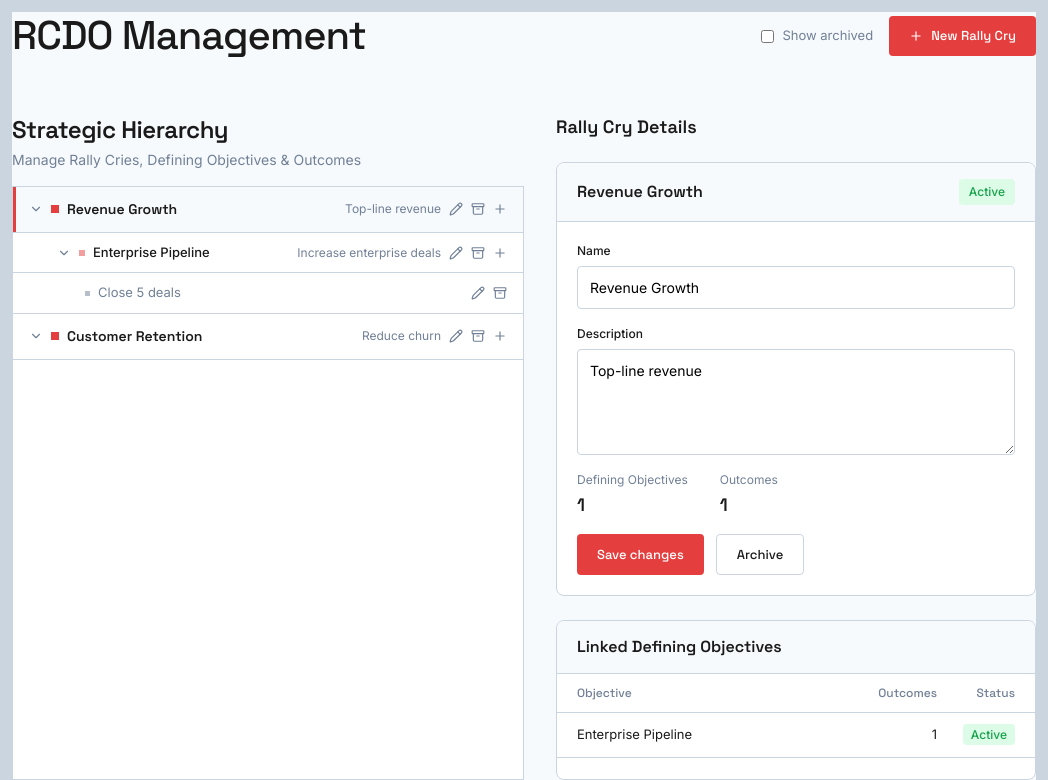
Test: StrategyManagementPage › only one node can be in edit mode at a time
Step 1. Click the button with test id "edit-node-btn" next to "Top-line revenue" → (456, 209), box [449,202,463,216]
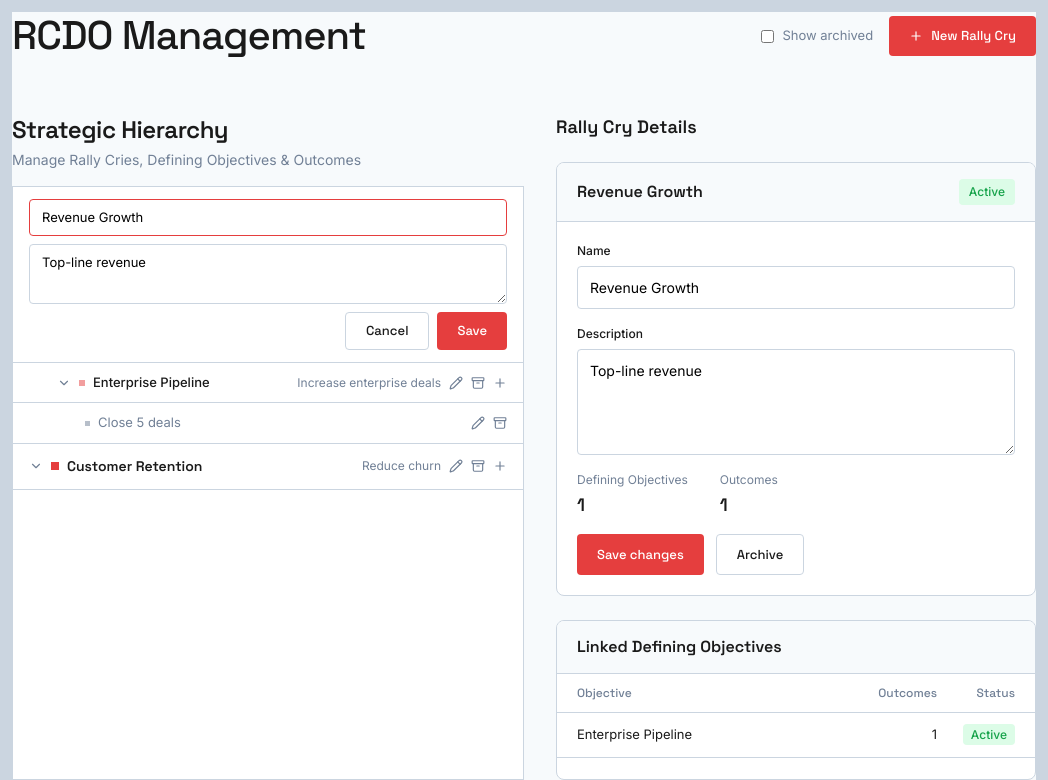
expect the field with test id "inline-edit-name" is shown: met, box [29,199,507,236]
// While RC is in inline edit, the next edit-node-btn in document order is the DO row
Step 2. Click the button with test id "edit-node-btn" next to "Increase enterprise deals" → (456, 382), box [449,376,463,390]
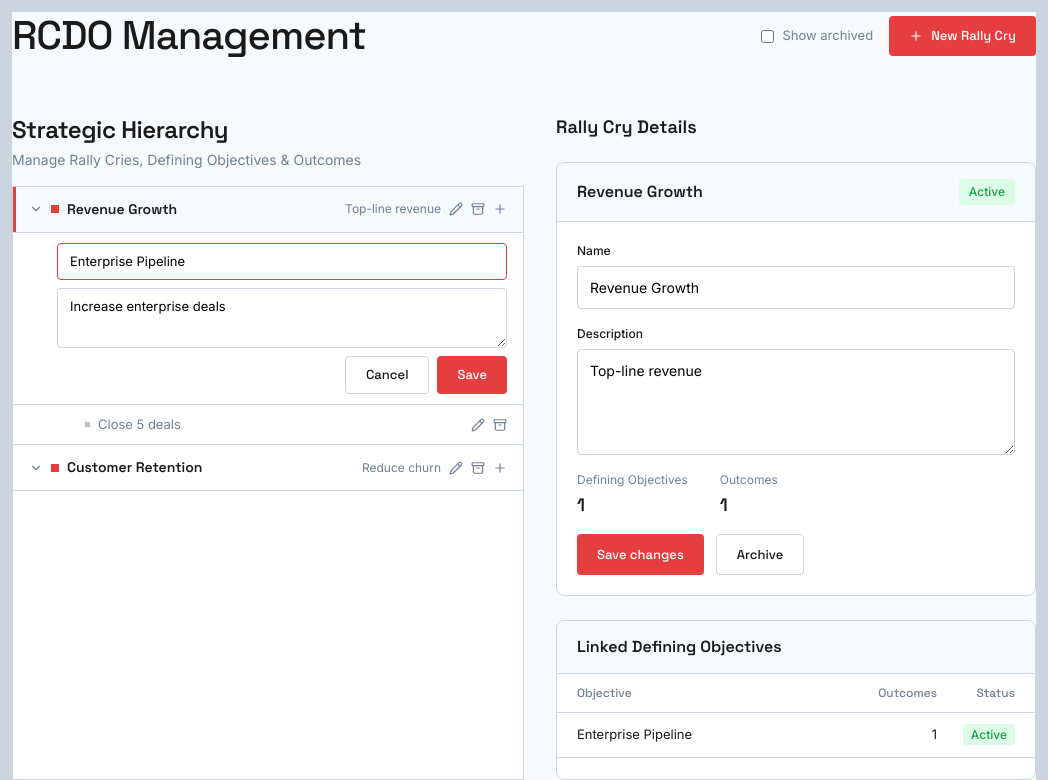
expect the field with test id "inline-edit-name" holds "Enterprise Pipeline": met, box [57,243,507,280]
